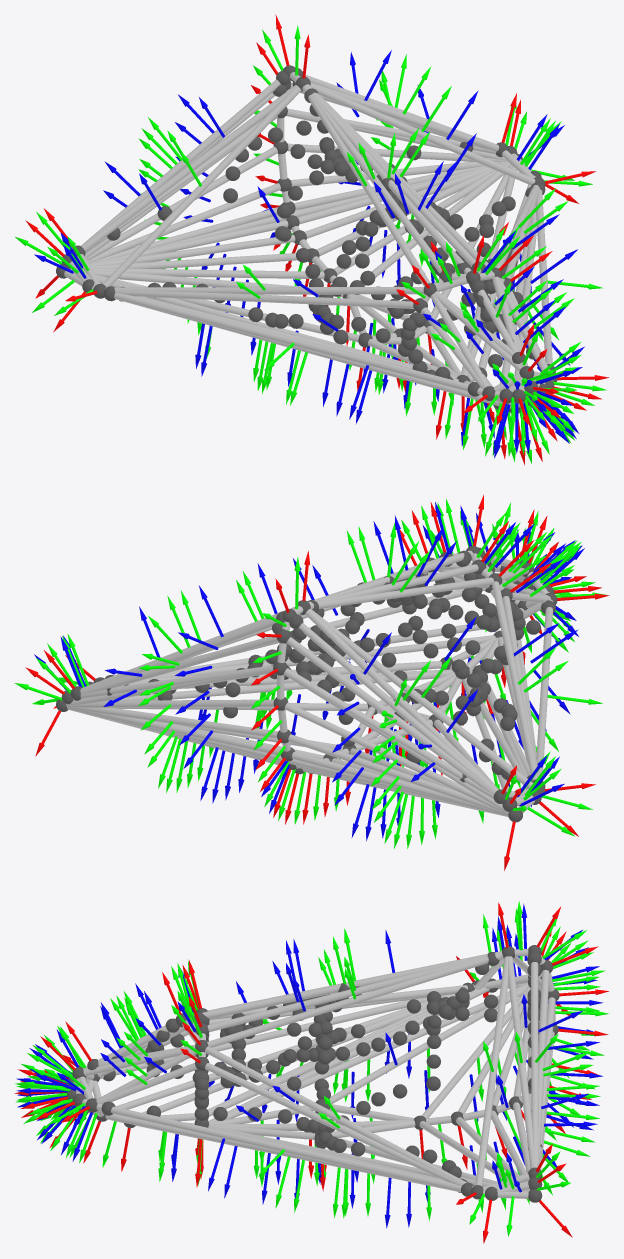
The model's file is t2f_fighter.gltf.
3 renders of one model, top to bottom at view 1: azimuth 30°, elevation 25°; view 2: azimuth 150°, elevation 25°; view 3: azimuth 270°, elevation 25°, orthographic. The views are drawn at different scales.
Bounding box in the file's own units: 0.8358 × 0.4275 × 0.8259.
